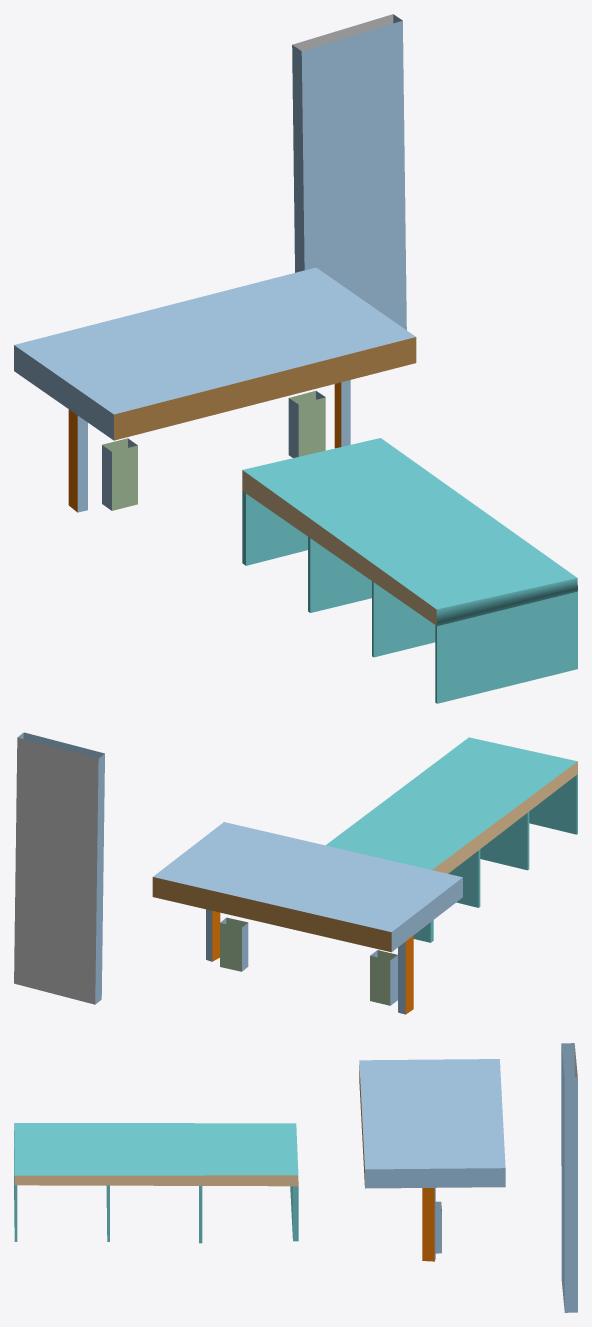
File: neste.obj
The picture shows the model from 3 angles, top to bottom: view 1: azimuth 30°, elevation 25°; view 2: azimuth 150°, elevation 25°; view 3: azimuth 270°, elevation 25°; orthographic projection. The views are drawn at different scales.
Parts seen in each view (by area): view 1: Mesh3_skp149C1_Component_4_1_skp4048_1_Component_3_1_Compon.000_; view 2: Mesh3_skp149C1_Component_4_1_skp4048_1_Component_3_1_Compon.000_; view 3: Mesh3_skp149C1_Component_4_1_skp4048_1_Component_3_1_Compon.000_.
Boxes of the visible parts, x1,y1,x2,y2 form: Mesh3_skp149C1_Component_4_1_skp4048_1_Component_3_1_Compon.000_: (14, 14, 577, 703); Mesh3_skp149C1_Component_4_1_skp4048_1_Component_3_1_Compon.000_: (14, 732, 577, 1014); Mesh3_skp149C1_Component_4_1_skp4048_1_Component_3_1_Compon.000_: (14, 1043, 577, 1312).
Bounding box in the file's own units: 19.37 × 13.79 × 29.61.
